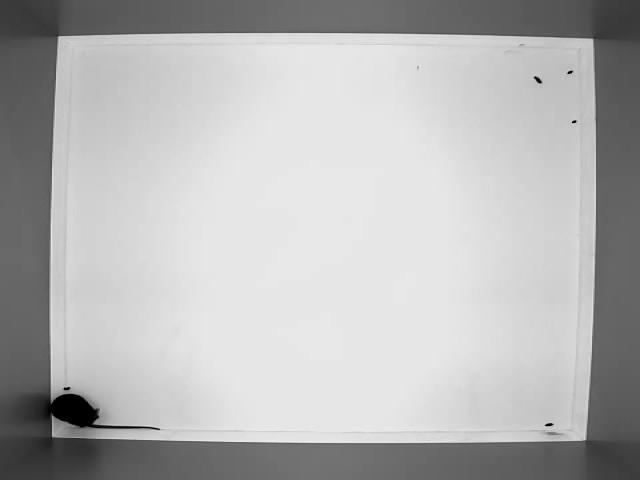Tikus: (49, 389, 164, 441)
